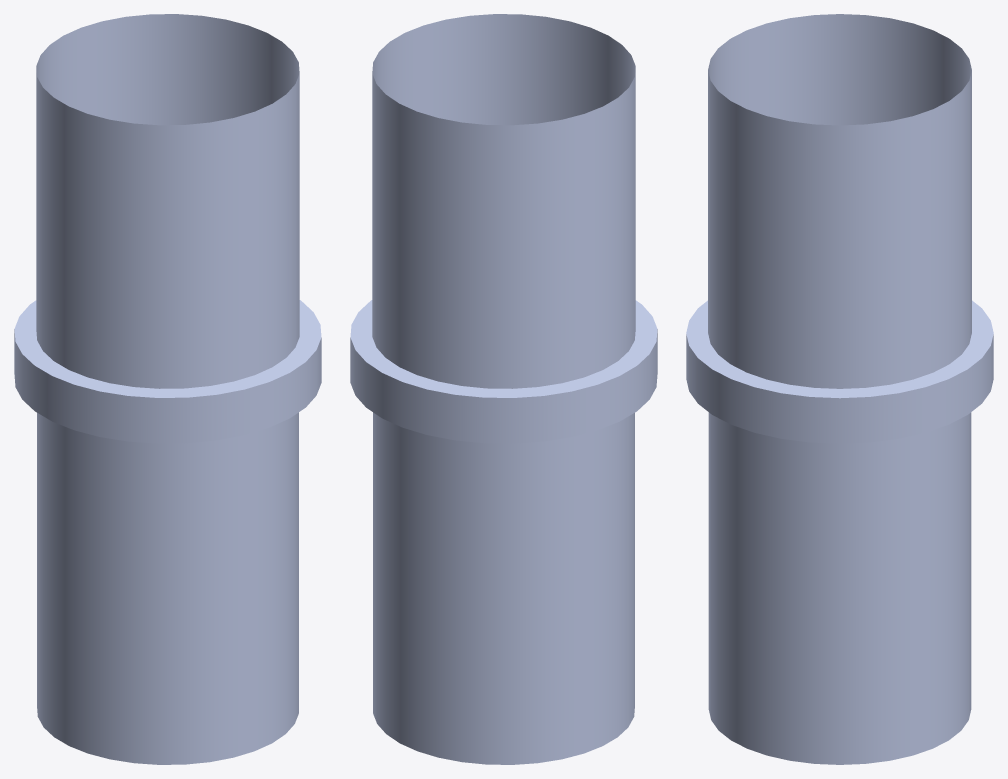
File: Quintuspipestraight.fbx
3 views of the same model, side by side, from view 1: azimuth 30°, elevation 25°; view 2: azimuth 150°, elevation 25°; view 3: azimuth 270°, elevation 25° (orthographic).
Parts seen in each view (by area): view 1: Circle; view 2: Circle; view 3: Circle.
Part boxes in pixels (x1,y1,x2,y2): Circle: (14,14,321,764); Circle: (350,14,657,764); Circle: (686,14,993,764).
Size of the model in its own units: 234 by 538 by 234.
